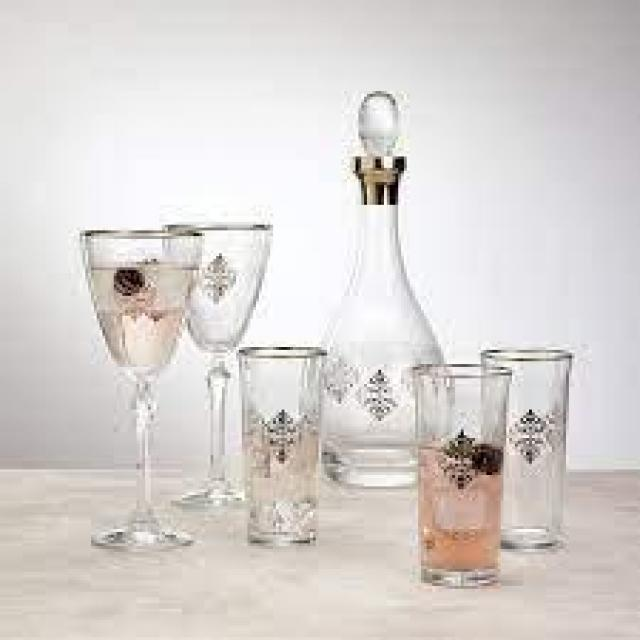non-organic waste: (316, 87, 452, 490), (74, 228, 210, 554), (408, 364, 514, 586), (234, 342, 328, 548)
